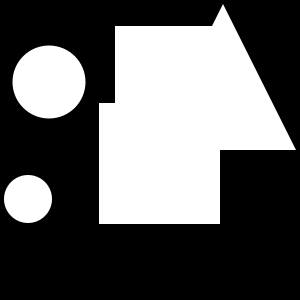circle: (99, 103, 220, 224), (115, 26, 234, 145)
rectangle: (12, 45, 86, 118), (4, 175, 52, 223)
triangle: (150, 4, 296, 150)
